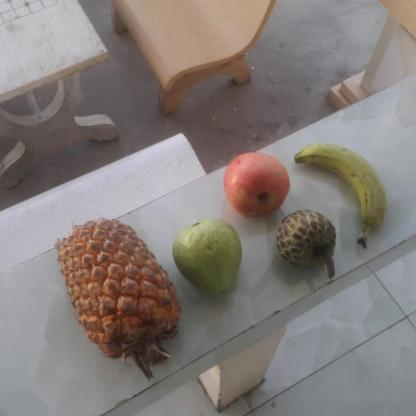annona: (273, 210, 336, 274)
apple: (220, 151, 293, 219)
banana: (288, 145, 385, 240)
guava: (171, 219, 242, 294)
pineapple: (52, 217, 176, 357)
